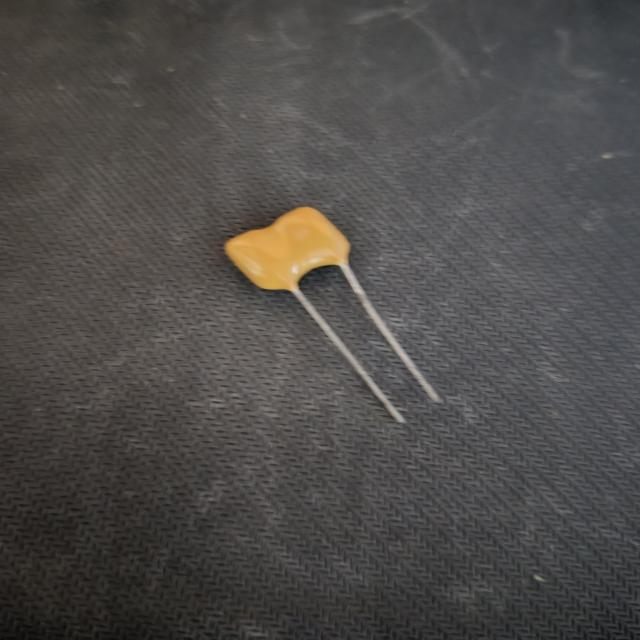resistor: (215, 192, 454, 441)
